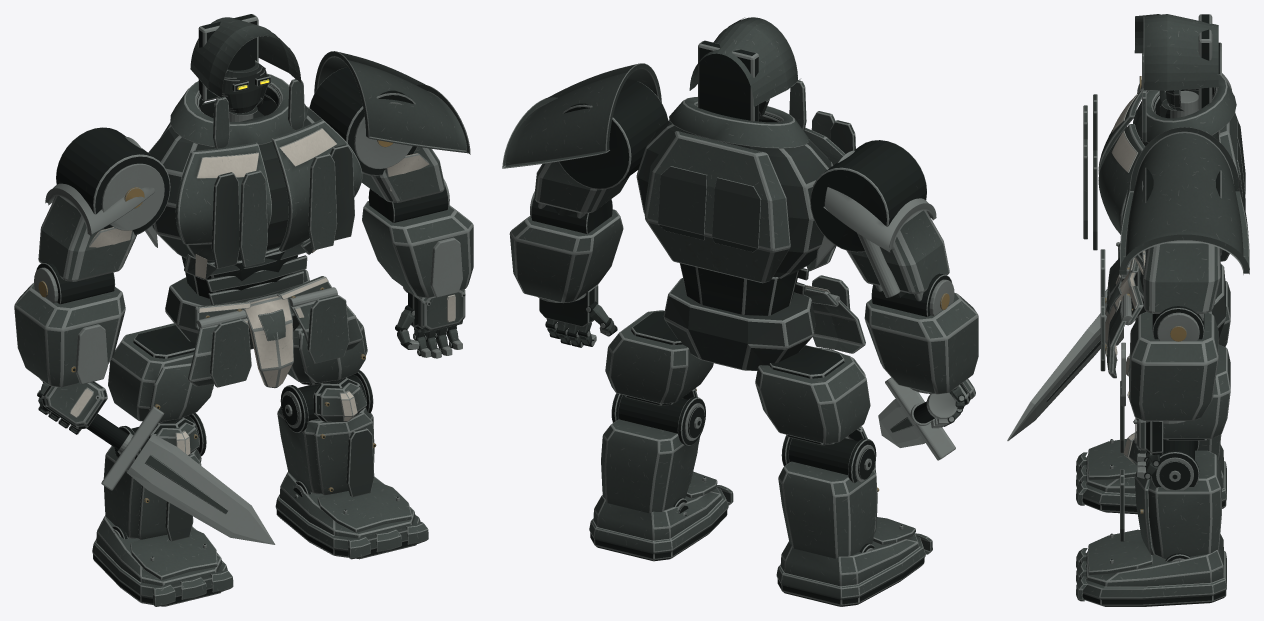
File: tank-t1-revenant.glb
The picture shows the model from 3 angles, left to right: view 1: azimuth 30°, elevation 25°; view 2: azimuth 150°, elevation 25°; view 3: azimuth 270°, elevation 25°; orthographic projection. The views are drawn at different scales.
Parts seen in each view (by area): view 1: chest__clay, chest__metal, weaponR__metal, ankleL__clay, shoulderR__metal, pauldronL__clay, ankleR__clay, pelvis__metal, elbowR__clay, kneeL__clay, elbowL__clay, hipR__clay (+21 smaller); view 2: chest__clay, chest__metal, pelvis__metal, elbowR__clay, shoulderR__metal, pauldronL__clay, kneeR__clay, elbowL__clay, kneeL__clay, hipR__clay, ankleR__clay, ankleL__clay (+19 smaller); view 3: pauldronL__clay, ankleL__clay, elbowL__clay, chest__clay, kneeL__clay, head__clay, shoulderL__clay, ankleR__clay, weaponR__metal, kneeL__metal, hipL__clay, elbowL__metal (+13 smaller).
Boxes of the visible parts, <box> form: chest__clay: <box>161,73,362,280</box>; chest__metal: <box>145,84,354,268</box>; weaponR__metal: <box>87,406,275,544</box>; ankleL__clay: <box>275,472,428,559</box>; shoulderR__metal: <box>56,127,170,280</box>; pauldronL__clay: <box>314,51,470,154</box>; ankleR__clay: <box>92,515,233,606</box>; pelvis__metal: <box>165,239,337,349</box>; elbowR__clay: <box>14,283,125,387</box>; kneeL__clay: <box>277,382,374,495</box>; elbowL__clay: <box>362,201,473,297</box>; hipR__clay: <box>108,323,213,421</box>; chest__clay: <box>644,97,845,283</box>; chest__metal: <box>636,104,855,278</box>; pelvis__metal: <box>663,263,840,370</box>; elbowR__clay: <box>864,292,978,394</box>; shoulderR__metal: <box>810,140,926,301</box>; pauldronL__clay: <box>502,63,661,168</box>; kneeR__clay: <box>778,426,877,558</box>; elbowL__clay: <box>509,209,623,302</box>; kneeL__clay: <box>601,388,699,513</box>; hipR__clay: <box>755,345,870,443</box>; ankleR__clay: <box>776,517,932,599</box>; ankleL__clay: <box>589,471,733,554</box>; pauldronL__clay: <box>1119,127,1249,274</box>; ankleL__clay: <box>1076,529,1226,601</box>; elbowL__clay: <box>1129,311,1218,420</box>; chest__clay: <box>1083,74,1240,274</box>; kneeL__clay: <box>1123,433,1221,559</box>; head__clay: <box>1134,14,1218,142</box>; shoulderL__clay: <box>1142,241,1220,313</box>; ankleR__clay: <box>1076,439,1226,507</box>; weaponR__metal: <box>1007,274,1136,440</box>; kneeL__metal: <box>1120,439,1199,541</box>; hipL__clay: <box>1163,344,1230,438</box>; elbowL__metal: <box>1121,306,1204,406</box>.
Size of the model in its own units: 3.6 by 4.18 by 1.76.
Materials: 11 (10 with a texture image).
